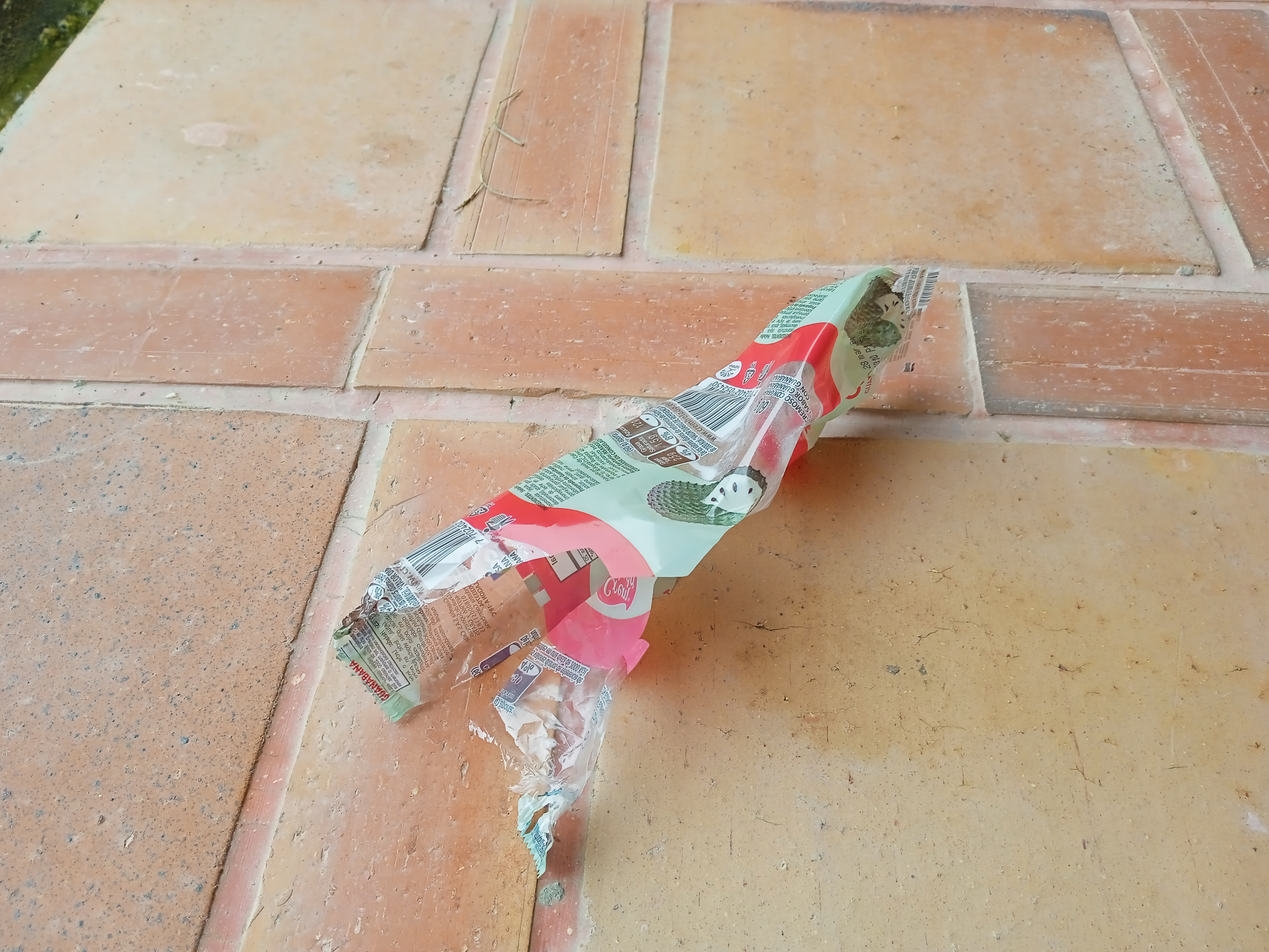plastic: (294, 248, 980, 887)
